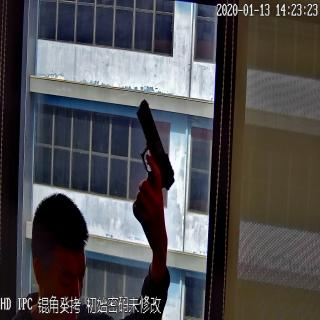gun: (131, 98, 178, 216)
